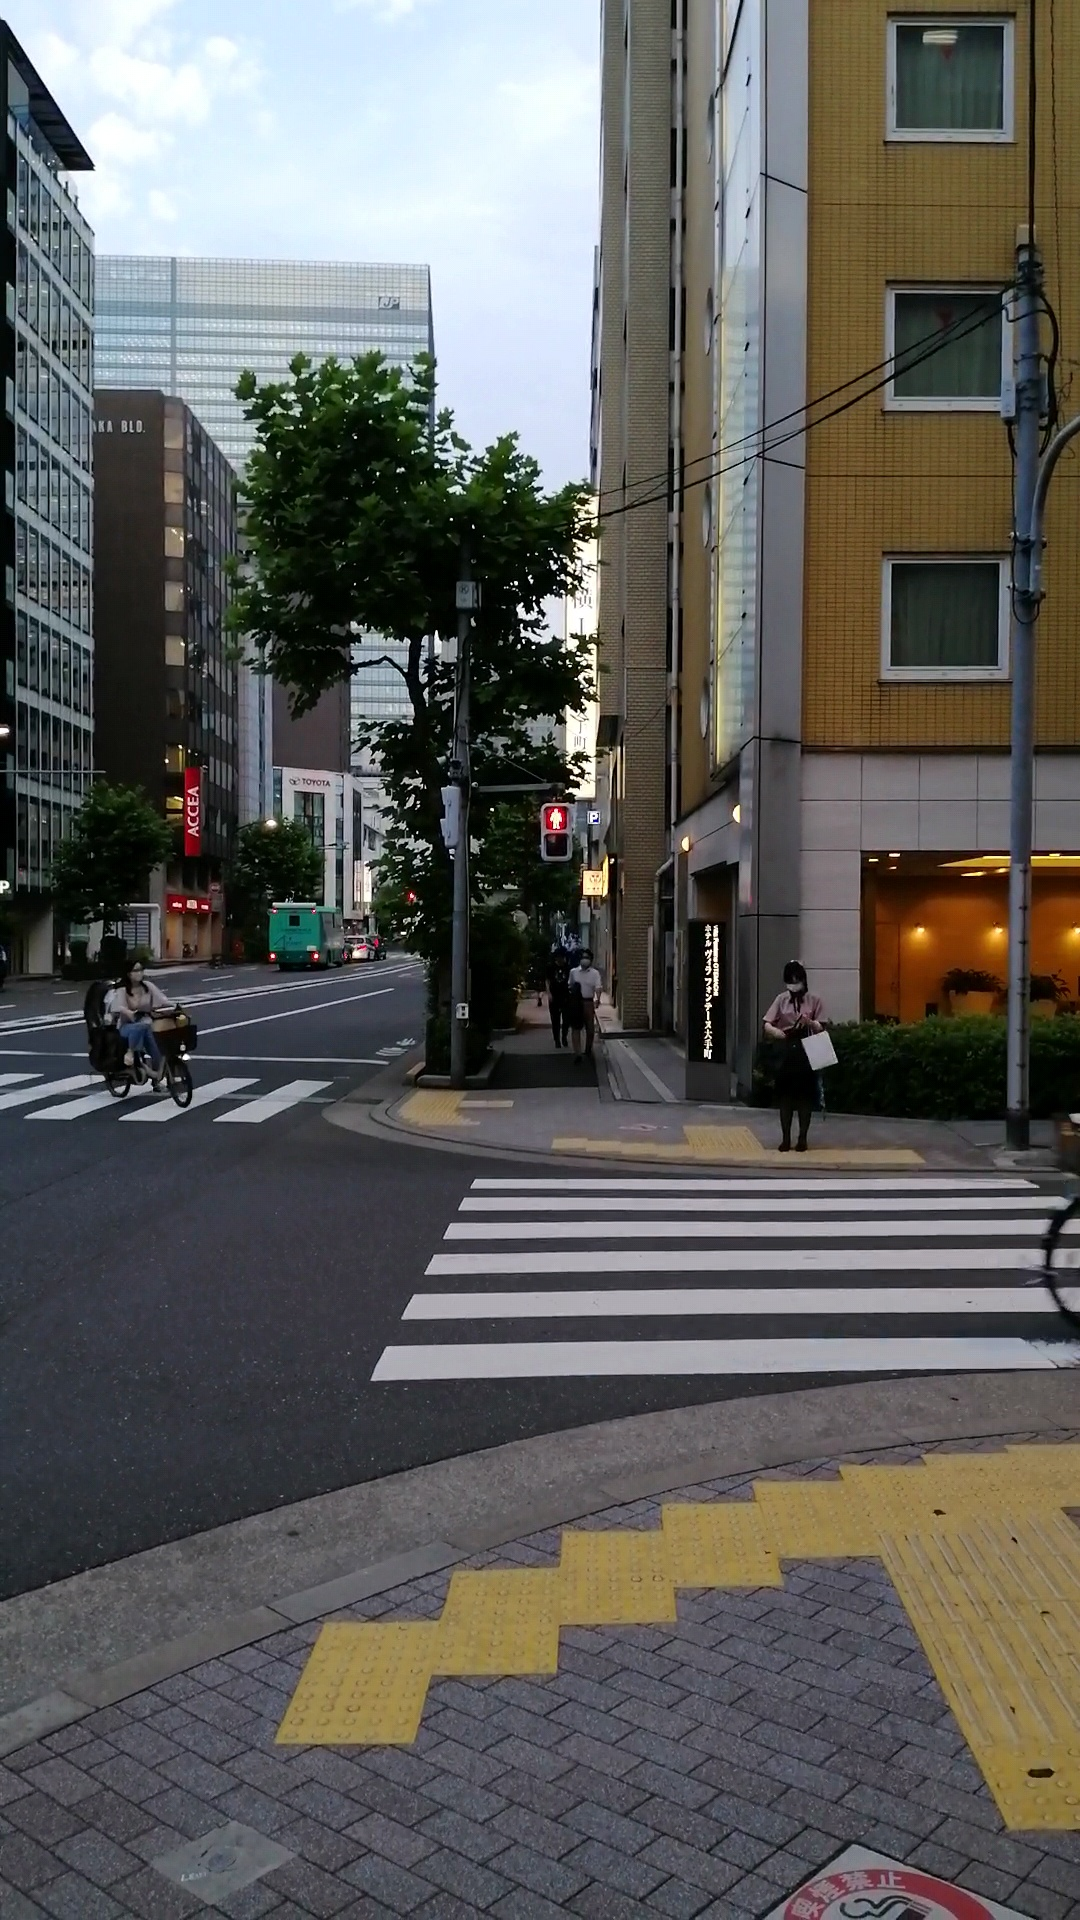red: (539, 800, 572, 862)
